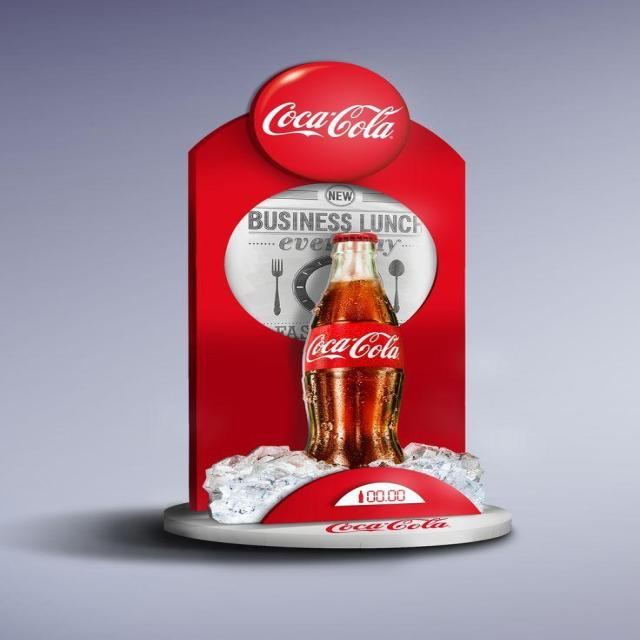coca-cola: (305, 224, 406, 471)
